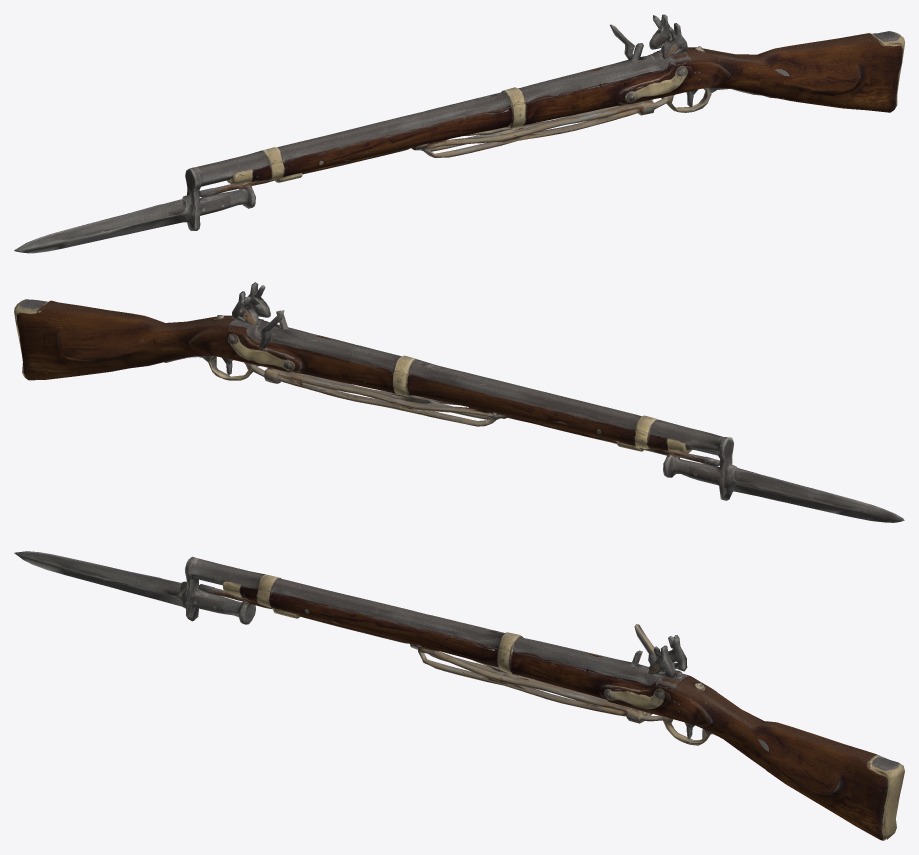
File: fusil-meshy.glb
3 views of the same model, one above another, from view 1: azimuth 30°, elevation 25°; view 2: azimuth 150°, elevation 25°; view 3: azimuth 330°, elevation 25° (orthographic).
Size of the model in its own units: 1.9 by 0.2926 by 0.105.
1 material, 1 textured.
